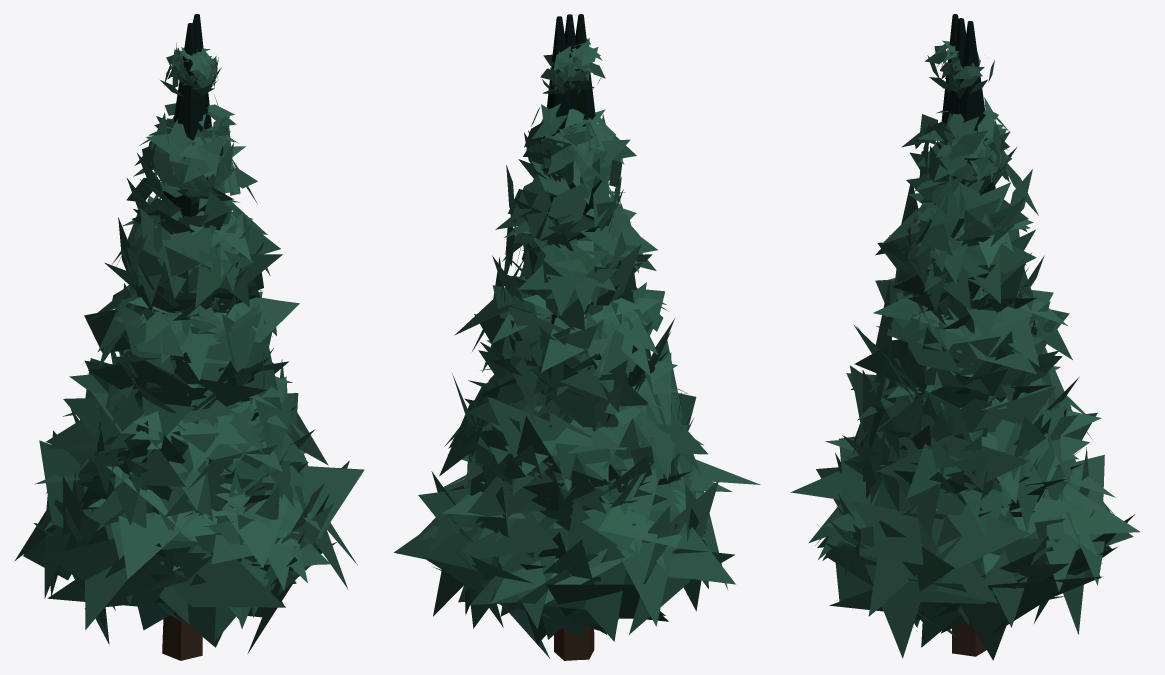
File: conifer.glb
3 renders of one model, left to right at view 1: azimuth 30°, elevation 25°; view 2: azimuth 150°, elevation 25°; view 3: azimuth 270°, elevation 25°, orthographic.
Parts seen in each view (by area): view 1: conifer-c, conifer-a, conifer-b; view 2: conifer-c, conifer-b, conifer-a; view 3: conifer-c, conifer-b, conifer-a.
Boxes of the visible parts, box(x1,y1,x2,y2) form: conifer-c: box(15, 23, 364, 660); conifer-a: box(39, 18, 328, 660); conifer-b: box(34, 14, 330, 660); conifer-c: box(394, 14, 760, 659); conifer-b: box(418, 16, 714, 660); conifer-a: box(439, 14, 700, 651); conifer-c: box(790, 14, 1139, 658); conifer-b: box(815, 21, 1133, 660); conifer-a: box(817, 18, 1097, 647).
Bounding box in the file's own units: 0.9551 × 1.86 × 0.9615.
